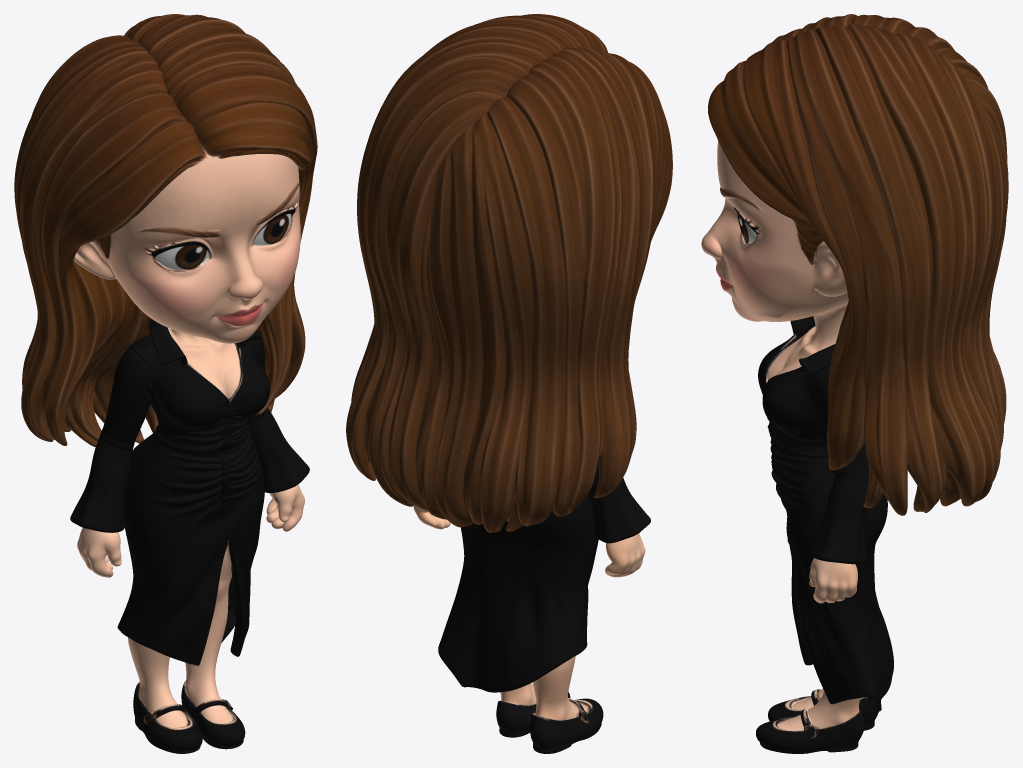
The model's file is lena.glb.
The picture shows the model from 3 angles, left to right: view 1: azimuth 30°, elevation 25°; view 2: azimuth 150°, elevation 25°; view 3: azimuth 270°, elevation 25°; orthographic projection. The views are drawn at different scales.
Bounding box in the file's own units: 0.7938 × 1.9 × 0.746.
1 material, 1 textured.
